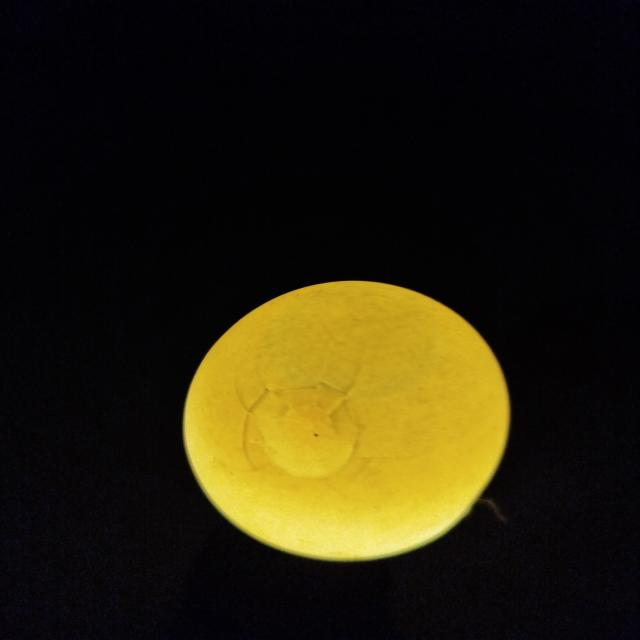Rachadura: (233, 386, 421, 496)
